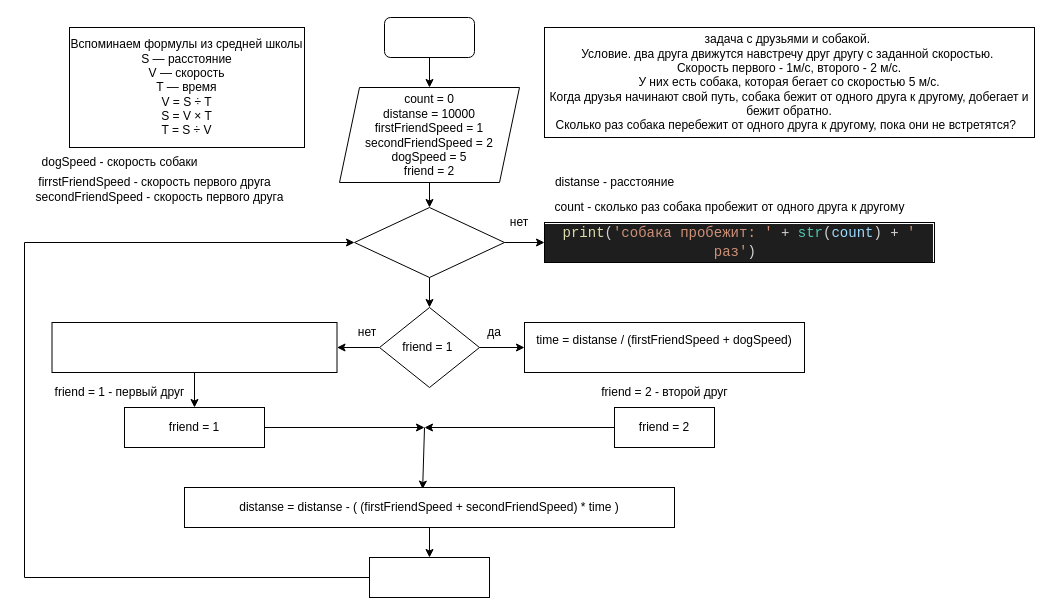
Image size: 1052x615. Some labels were removed from this diagram. The shapes that lost their labels are listed below. From the top down, each one's centre as x and y in pixels, then its label:
At (429,37): "Start".
At (429,242): "distanse > 10".
At (194,347): "time = distanse / (secondFriendSpeed + dogSpeed)".
At (429,577): "count = count + 1".
